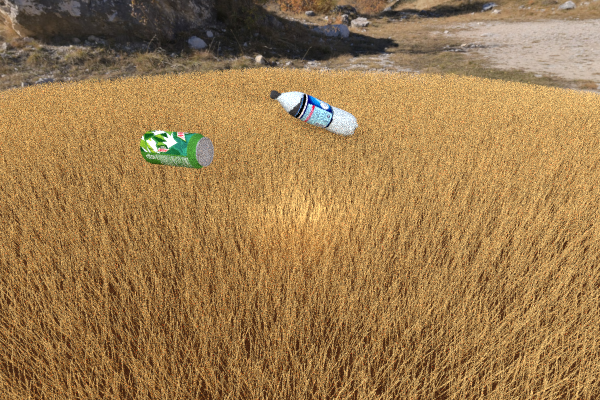bottle: (269, 90, 358, 136)
can: (140, 130, 214, 168)
